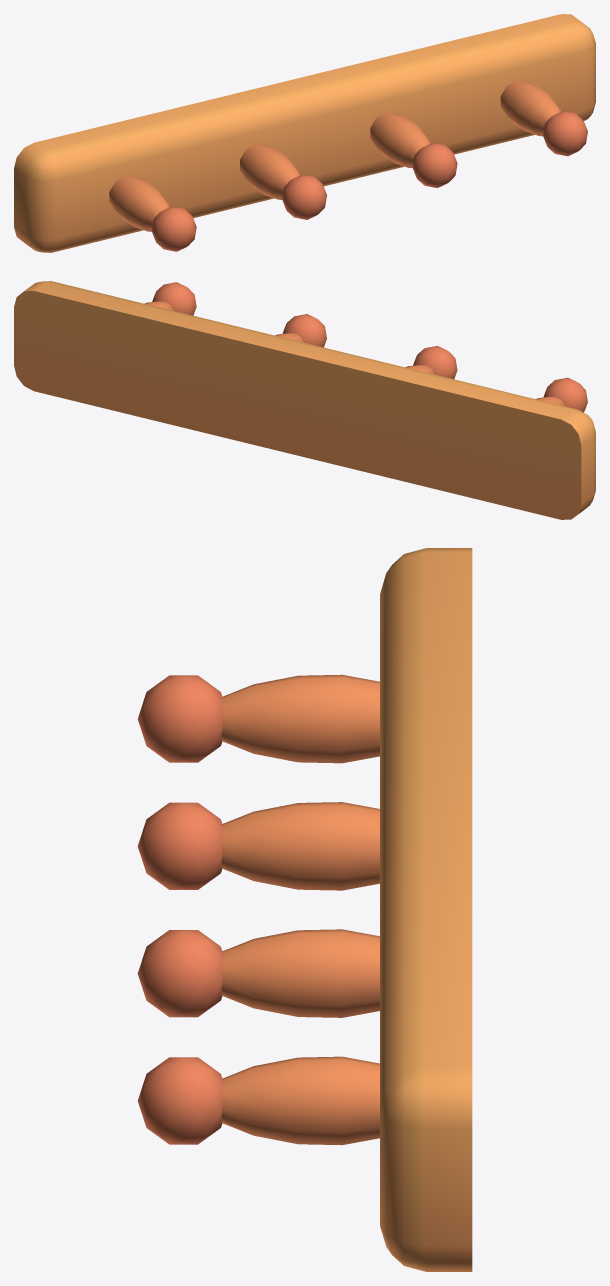
Rendered from Hanger_01.glb.
3 renders of one model, top to bottom at view 1: azimuth 30°, elevation 25°; view 2: azimuth 150°, elevation 25°; view 3: azimuth 270°, elevation 25°, orthographic. The views are drawn at different scales.
Visible parts, largest first — view 1: Hanger_01; view 2: Hanger_01; view 3: Hanger_01.
Boxes of the visible parts, x1=… form: Hanger_01: x1=14, y1=14, x2=595, y2=252; Hanger_01: x1=14, y1=281, x2=595, y2=519; Hanger_01: x1=137, y1=548, x2=472, y2=1271.
Bounding box in the file's own units: 0.71 × 0.12 × 0.1813.
Materials: 1 (1 with a texture image).
